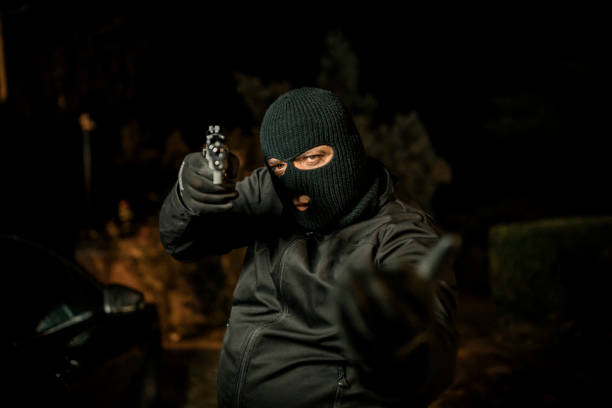terrorist: (136, 68, 481, 309)
